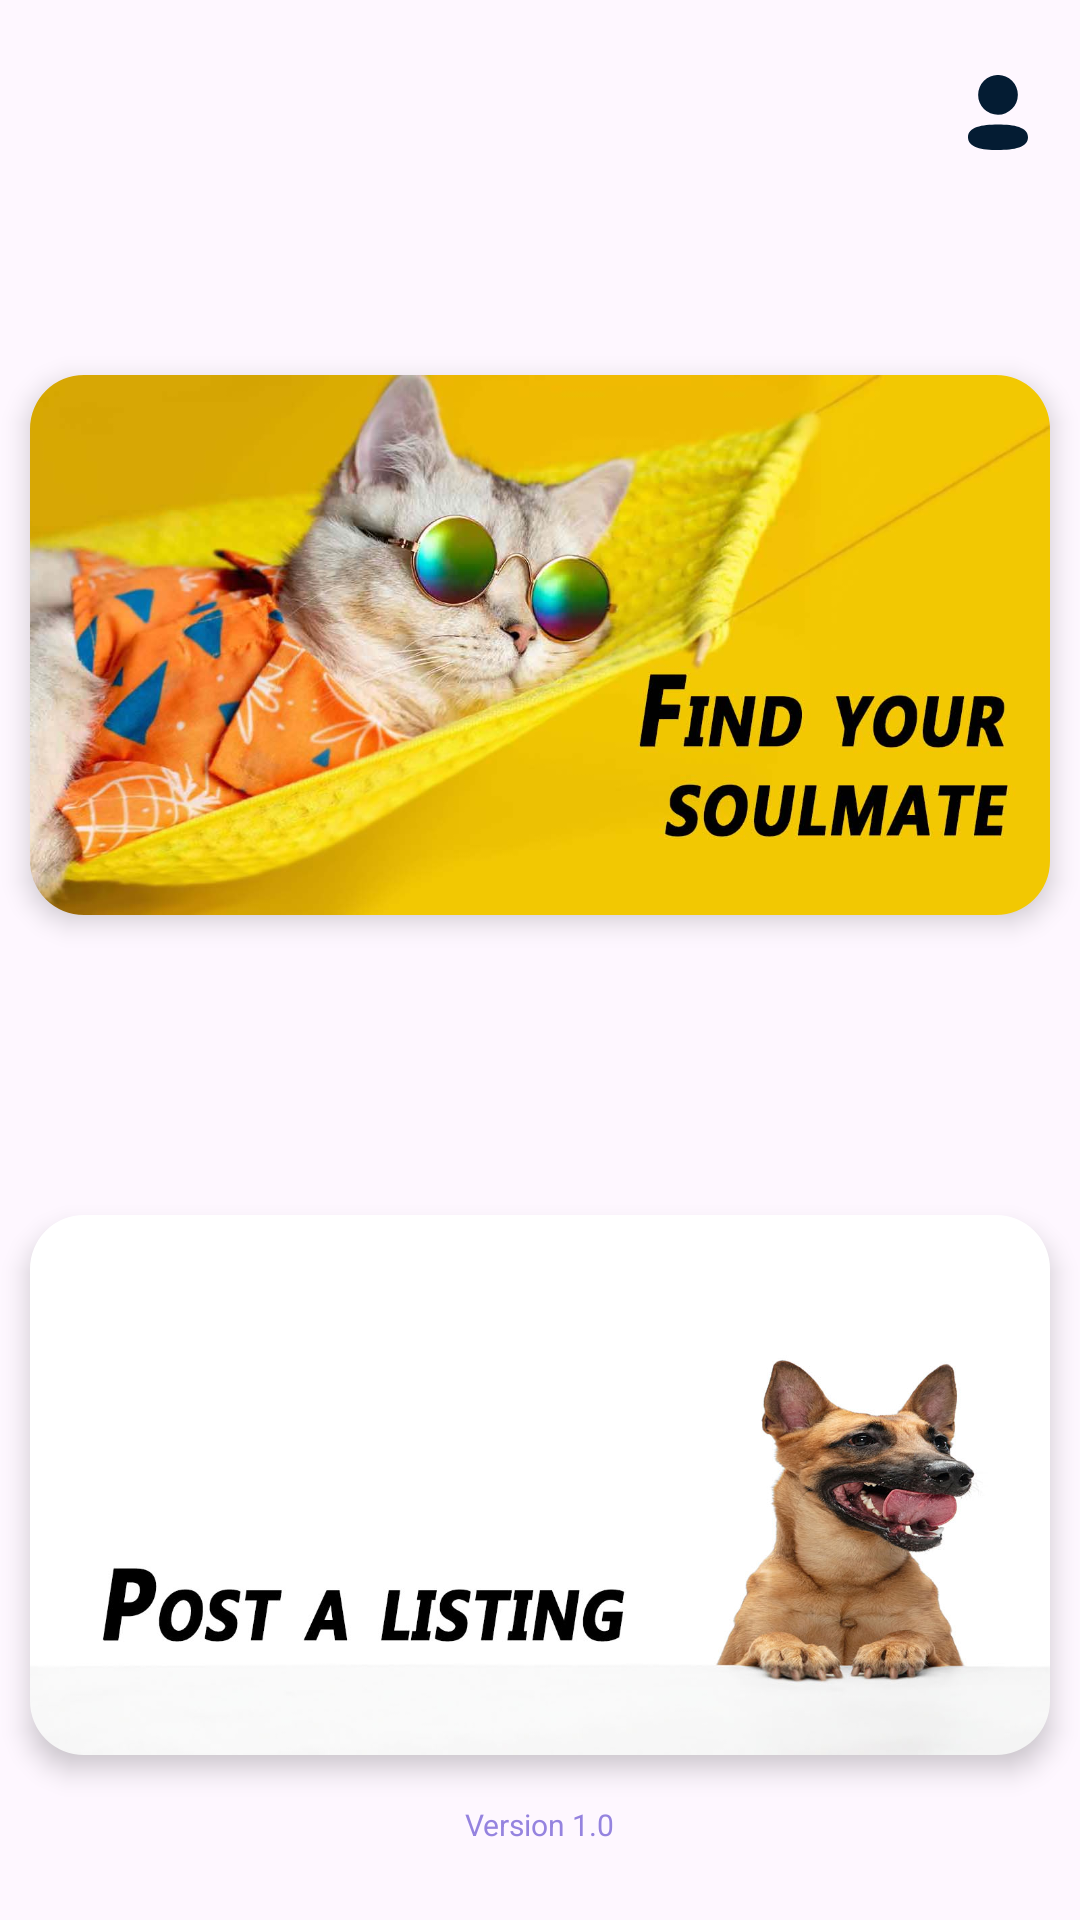

Icon bounding boxes for this 1080 × 1920 phone screenshot, format region(x1, y1, x2, y2):
profile: region(968, 75, 1028, 150)
